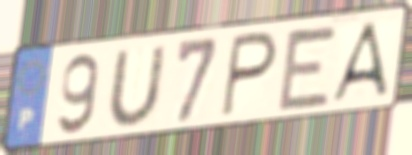7: (174, 36, 220, 126)
9: (55, 50, 101, 138)
A: (328, 19, 393, 106)
E: (275, 23, 341, 114)
P: (218, 28, 281, 120)
U: (106, 42, 169, 129)
